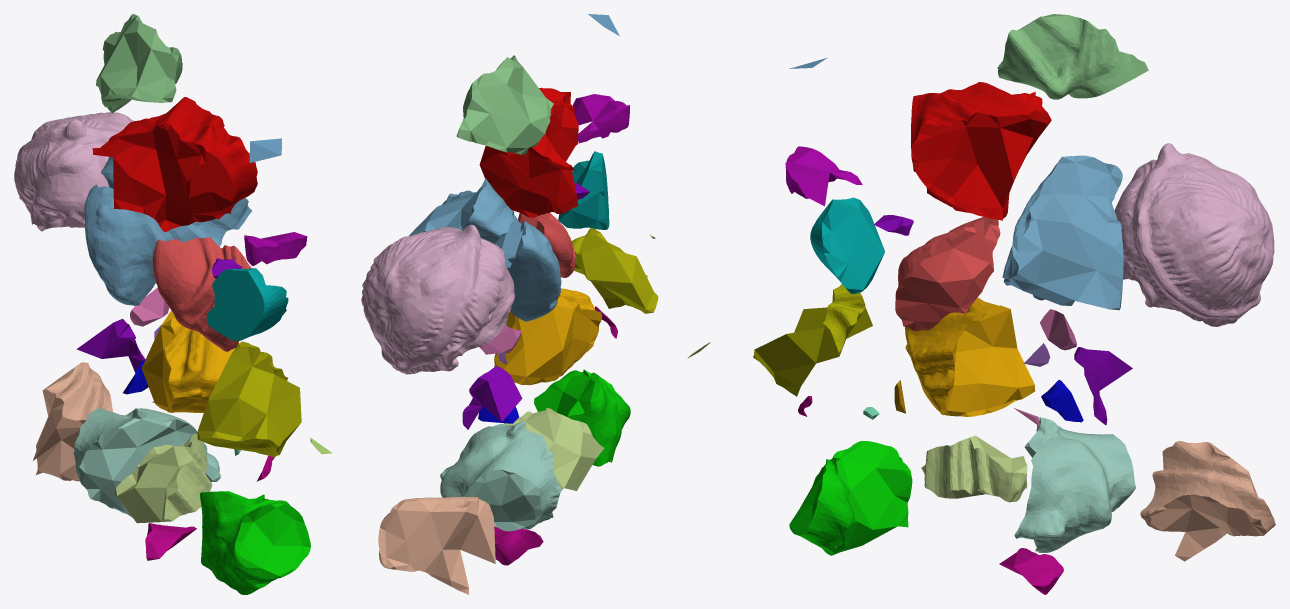
The model's file is fractured_31_26pcs_transformed.glb.
3 renders of one model, left to right at view 1: azimuth 30°, elevation 25°; view 2: azimuth 150°, elevation 25°; view 3: azimuth 270°, elevation 25°, orthographic. The views are drawn at different scales.
Parts seen in each view (by area): view 1: piece_9.obj, piece_8.obj, piece_6.obj, piece_2.obj, piece_11.obj, piece_4.obj, piece_0.obj, piece_5.obj, piece_3.obj, piece_1.obj, piece_7.obj, piece_13.obj (+5 smaller); view 2: piece_6.obj, piece_4.obj, piece_7.obj, piece_2.obj, piece_9.obj, piece_3.obj, piece_0.obj, piece_8.obj, piece_11.obj, piece_5.obj, piece_13.obj, piece_18.obj (+4 smaller); view 3: piece_6.obj, piece_2.obj, piece_9.obj, piece_4.obj, piece_0.obj, piece_7.obj, piece_8.obj, piece_3.obj, piece_1.obj, piece_11.obj, piece_5.obj, piece_13.obj (+5 smaller).
Part boxes in pixels (left/top/right/bottom): piece_9.obj: left=92, top=97, right=257, bottom=231; piece_8.obj: left=200, top=491, right=310, bottom=594; piece_6.obj: left=14, top=112, right=134, bottom=231; piece_2.obj: left=84, top=157, right=251, bottom=305; piece_11.obj: left=197, top=341, right=301, bottom=457; piece_4.obj: left=73, top=408, right=220, bottom=517; piece_0.obj: left=141, top=310, right=238, bottom=412; piece_5.obj: left=114, top=433, right=212, bottom=523; piece_3.obj: left=96, top=14, right=182, bottom=112; piece_1.obj: left=152, top=237, right=251, bottom=351; piece_7.obj: left=33, top=362, right=112, bottom=481; piece_13.obj: left=206, top=268, right=288, bottom=340; piece_6.obj: left=361, top=224, right=514, bottom=374; piece_4.obj: left=440, top=421, right=561, bottom=531; piece_7.obj: left=378, top=496, right=495, bottom=594; piece_2.obj: left=409, top=178, right=561, bottom=321; piece_9.obj: left=479, top=87, right=578, bottom=217; piece_3.obj: left=456, top=55, right=553, bottom=154; piece_0.obj: left=494, top=288, right=602, bottom=385; piece_8.obj: left=534, top=369, right=630, bottom=466; piece_11.obj: left=571, top=228, right=658, bottom=313; piece_5.obj: left=503, top=408, right=604, bottom=491; piece_13.obj: left=558, top=151, right=609, bottom=229; piece_18.obj: left=462, top=366, right=522, bottom=429; piece_6.obj: left=1114, top=143, right=1274, bottom=326; piece_2.obj: left=1002, top=155, right=1123, bottom=310; piece_9.obj: left=911, top=82, right=1051, bottom=220; piece_4.obj: left=1014, top=417, right=1135, bottom=552; piece_0.obj: left=905, top=297, right=1035, bottom=416; piece_7.obj: left=1140, top=441, right=1275, bottom=561; piece_8.obj: left=789, top=441, right=912, bottom=555; piece_3.obj: left=997, top=14, right=1148, bottom=99; piece_1.obj: left=895, top=217, right=1000, bottom=331; piece_11.obj: left=753, top=284, right=872, bottom=396; piece_5.obj: left=921, top=435, right=1027, bottom=502; piece_13.obj: left=810, top=197, right=884, bottom=294.
Size of the model in its own units: 0.4788 by 1.45 by 1.34.
